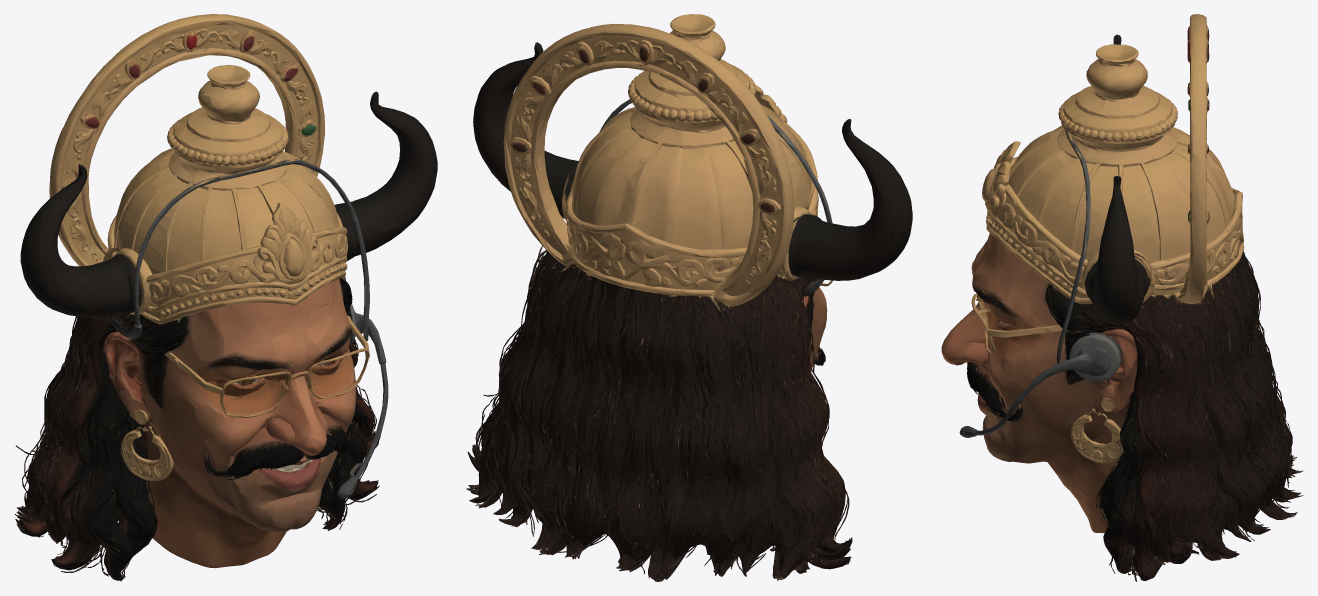
The model's file is head-orator.glb.
The picture shows the model from 3 angles, left to right: view 1: azimuth 30°, elevation 25°; view 2: azimuth 150°, elevation 25°; view 3: azimuth 270°, elevation 25°; orthographic projection. The views are drawn at different scales.
Parts seen in each view (by area): view 1: mesh_node; view 2: mesh_node; view 3: mesh_node.
Part boxes in pixels (left/top/right/bottom): mesh_node: left=14, top=14, right=437, bottom=581; mesh_node: left=466, top=14, right=912, bottom=581; mesh_node: left=941, top=14, right=1303, bottom=581.
Bounding box in the file's own units: 1.61 × 1.9 × 1.26.
1 material, 1 textured.
